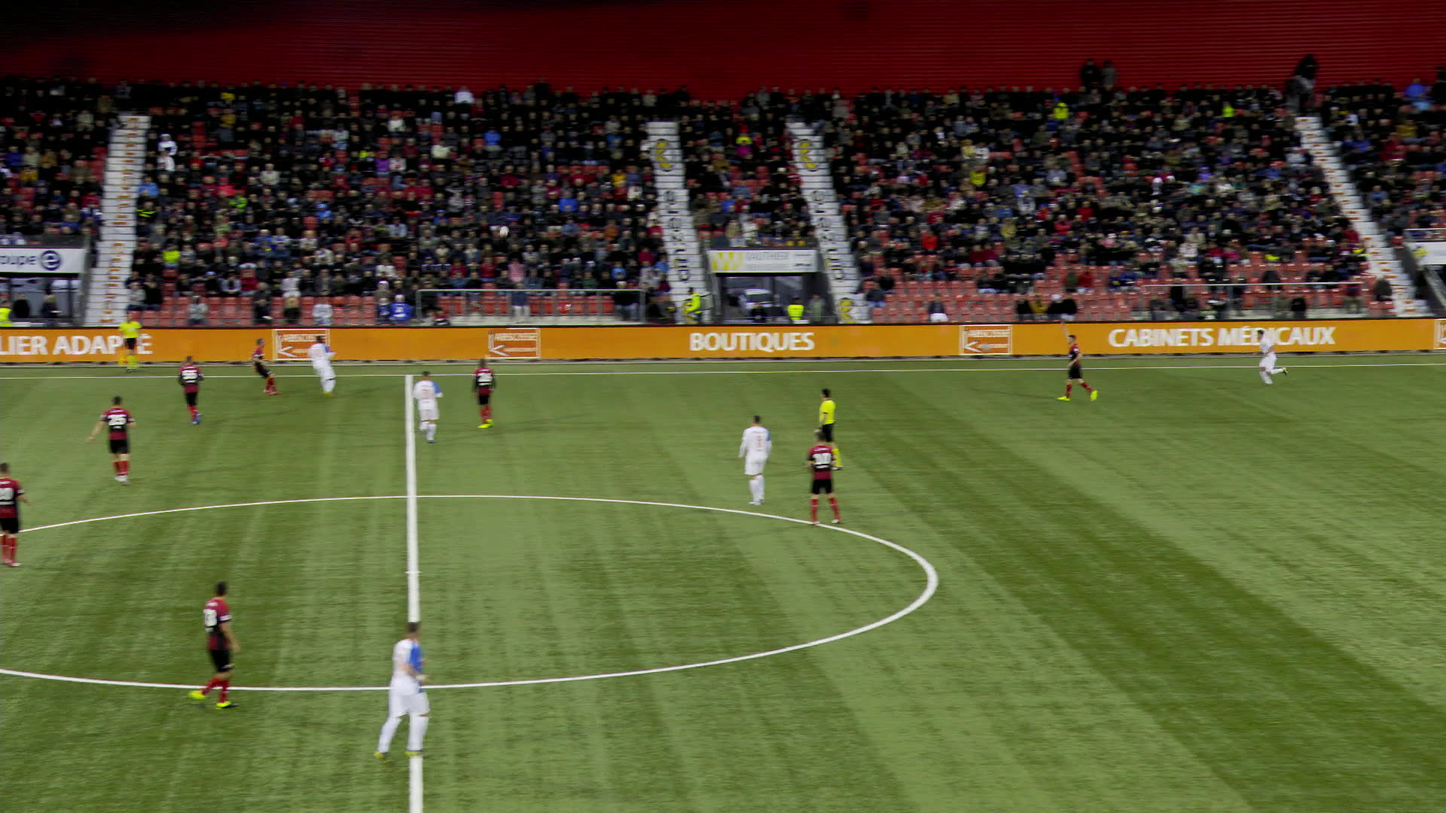ball: (502, 218, 511, 228)
player: (365, 622, 432, 766), (188, 581, 236, 710), (87, 394, 130, 483), (800, 431, 835, 524), (732, 416, 768, 506), (0, 463, 27, 567), (404, 367, 435, 443), (1060, 336, 1092, 401), (172, 354, 201, 424), (465, 359, 493, 428), (303, 336, 331, 397), (247, 339, 277, 394), (1251, 328, 1280, 384)
referee: (805, 387, 839, 470), (114, 312, 138, 371)
